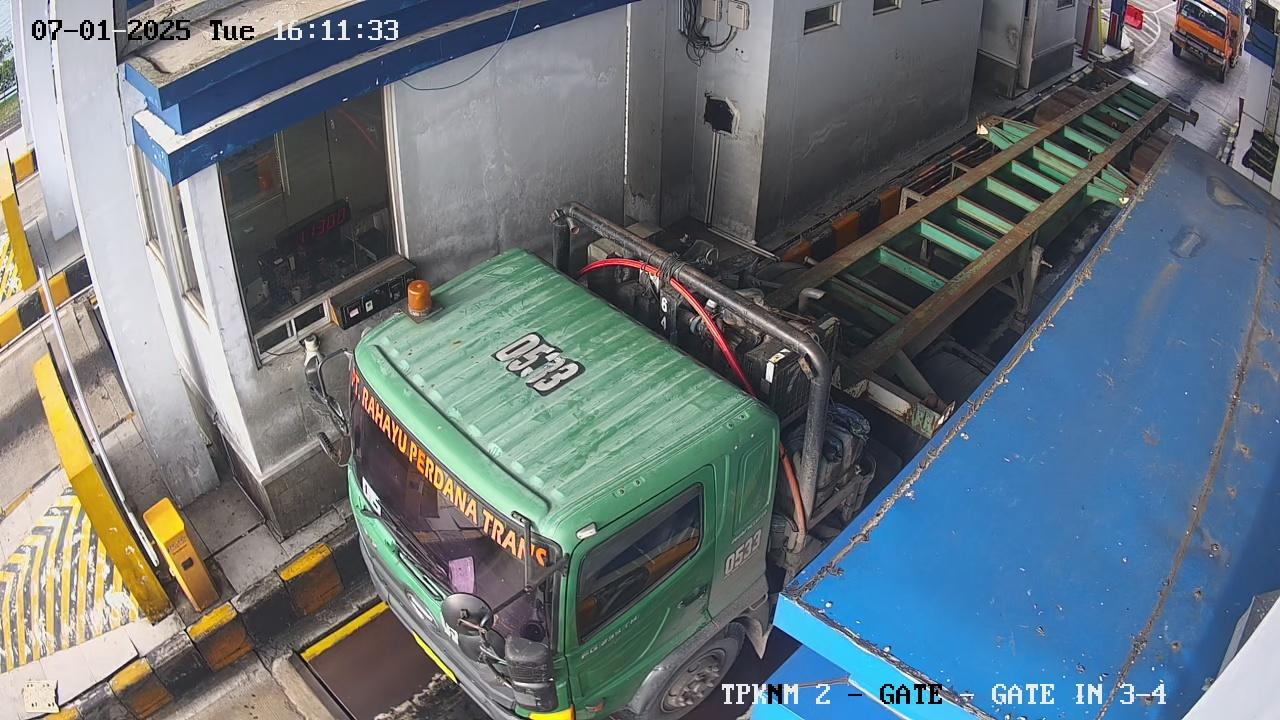truck_id: (492, 332, 584, 395)
